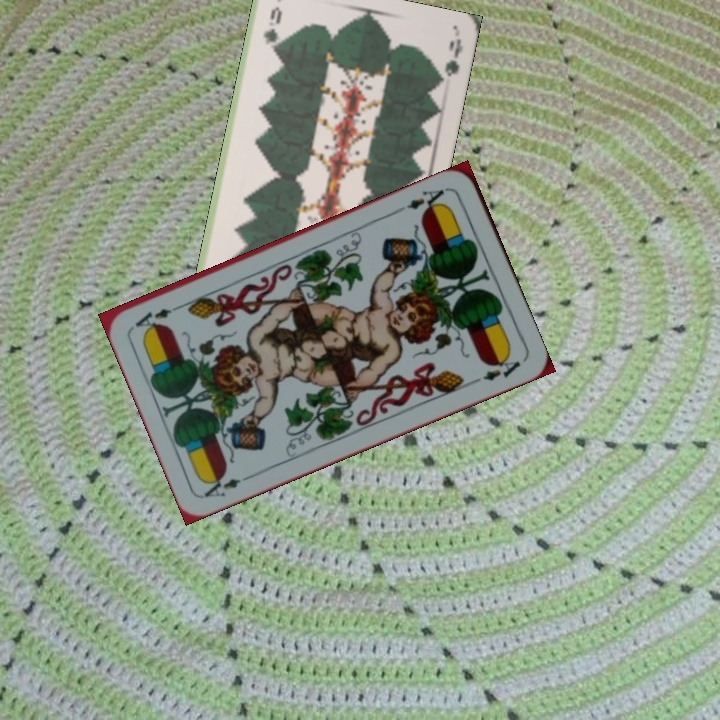EA: (200, 470, 257, 500), (403, 183, 452, 216)
G9: (259, 3, 285, 54)
